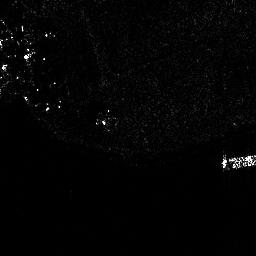ship: (220, 153, 256, 172)
